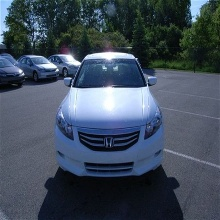no damage: (55, 52, 165, 178), (22, 54, 57, 84), (1, 57, 27, 88)
